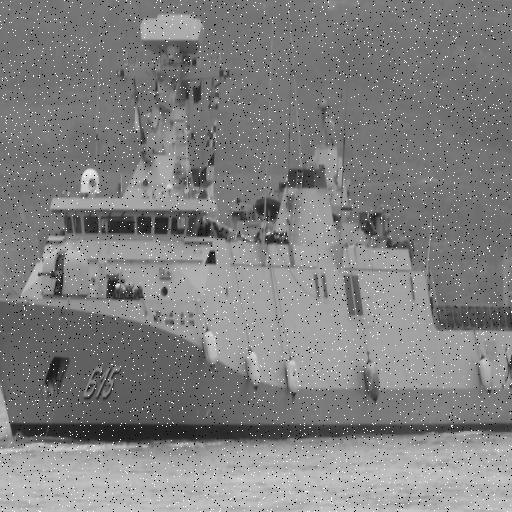Fragata: (1, 10, 512, 452)
